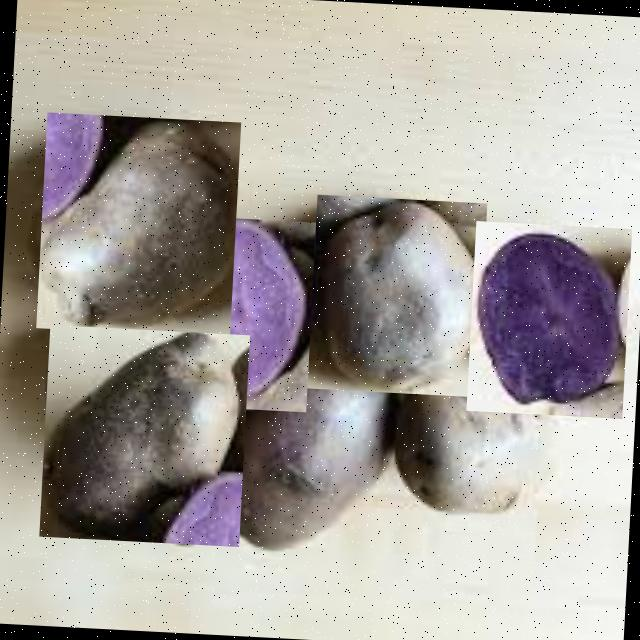Damaged potato: (38, 324, 249, 546), (36, 111, 240, 338), (224, 352, 406, 564), (306, 194, 486, 396), (382, 369, 559, 525)
Defected potato: (466, 220, 632, 418), (164, 215, 316, 412)
